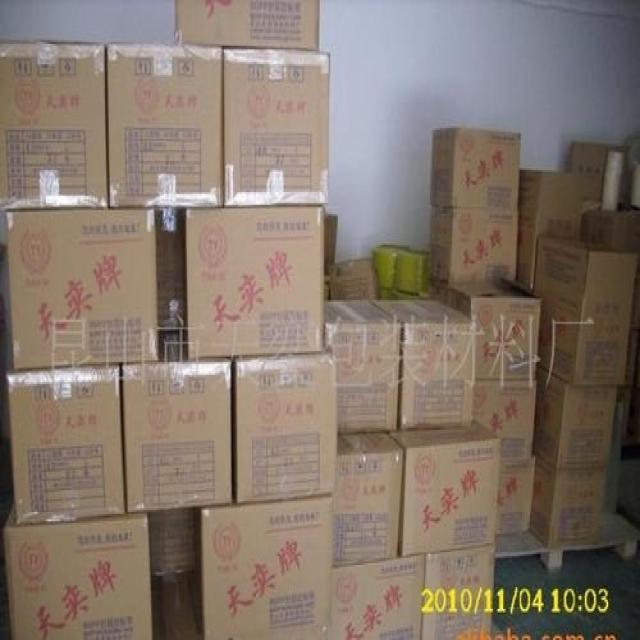box: (5, 207, 159, 369), (186, 205, 325, 358), (4, 507, 152, 640), (195, 497, 334, 638), (6, 366, 125, 527), (106, 46, 223, 208), (0, 40, 109, 210), (221, 46, 330, 208), (120, 358, 232, 514), (233, 353, 337, 507), (532, 238, 640, 386), (388, 421, 500, 558), (370, 298, 474, 430), (438, 278, 541, 380), (325, 300, 401, 433), (333, 432, 403, 567), (532, 364, 618, 466), (516, 168, 584, 291), (330, 556, 426, 640), (430, 128, 521, 208), (530, 455, 607, 549), (430, 205, 518, 287), (174, 0, 320, 49), (421, 545, 495, 640), (472, 380, 536, 466), (155, 207, 187, 327), (566, 144, 626, 205), (148, 508, 196, 574), (495, 461, 535, 534), (582, 210, 639, 251), (332, 258, 379, 300), (325, 216, 338, 280)
